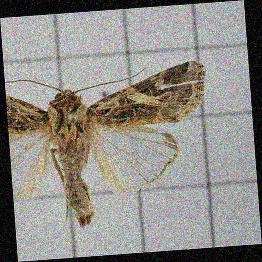Spodoptera litura: (10, 66, 211, 227)
